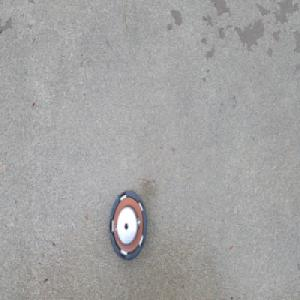FuelCap: (108, 189, 148, 263)
